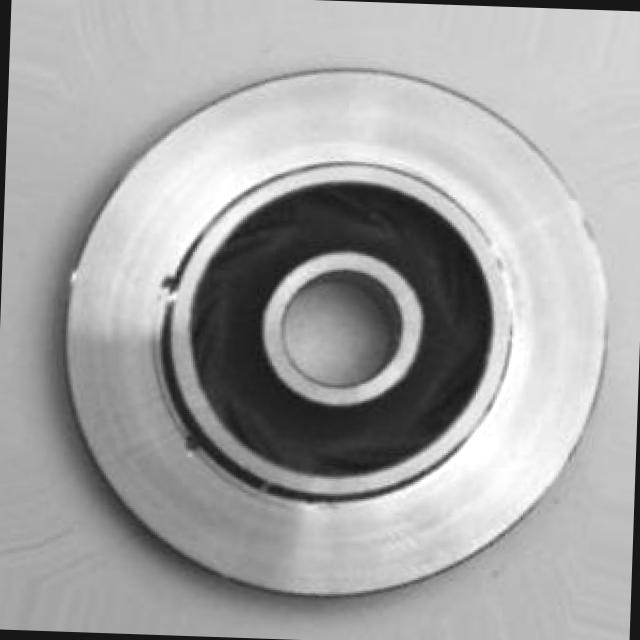Defect: (171, 424, 218, 464), (153, 262, 186, 302)
